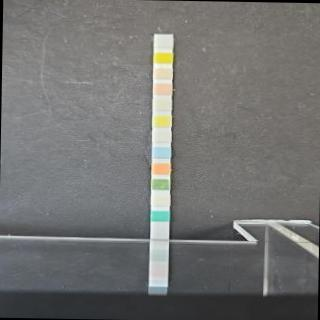mark: (152, 114, 170, 128), (153, 82, 172, 95), (152, 162, 170, 175), (151, 210, 169, 222), (152, 178, 170, 190), (152, 146, 170, 158), (152, 130, 170, 142), (153, 98, 171, 110), (154, 52, 172, 64), (154, 36, 172, 48), (154, 67, 170, 79), (152, 195, 168, 206)
